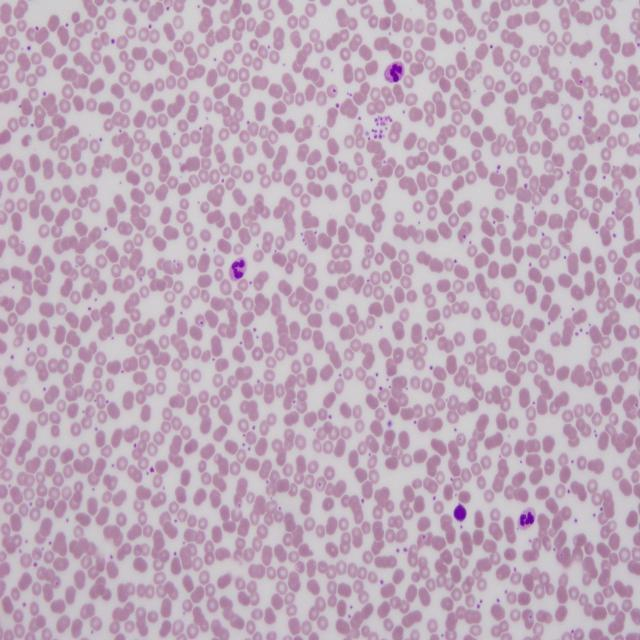cell: (384, 62, 404, 83), (230, 258, 246, 279)
